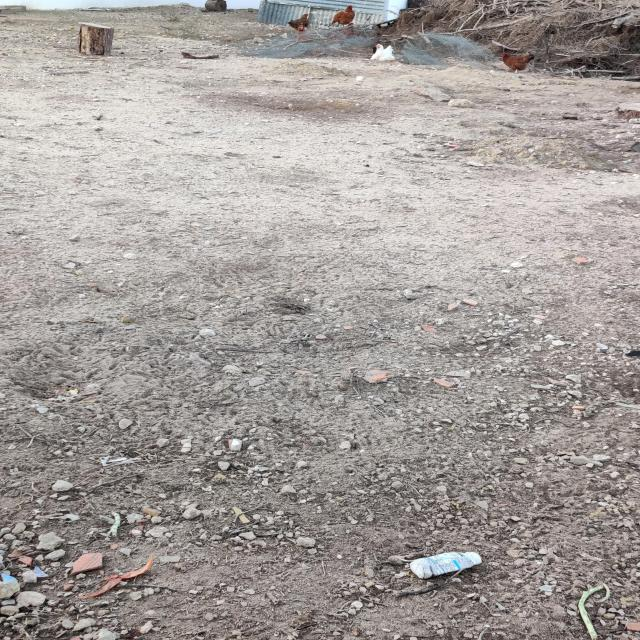litter: (398, 534, 510, 584)
